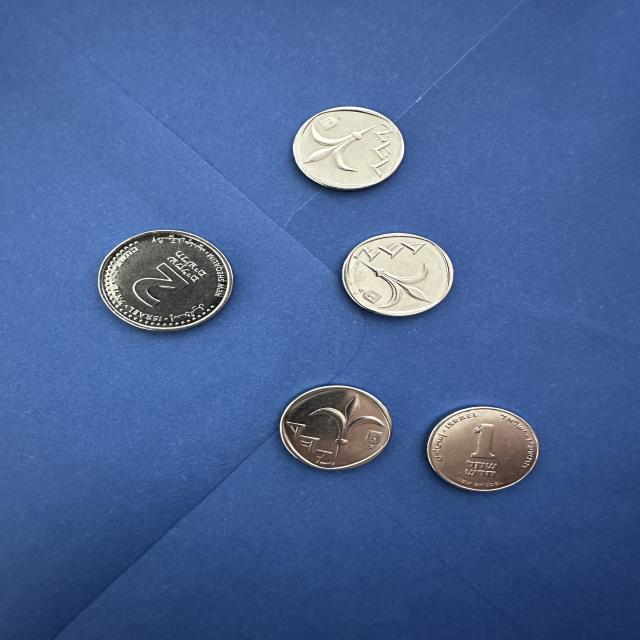1-shekel: (278, 382, 398, 473), (294, 104, 407, 197), (421, 402, 540, 490), (338, 230, 451, 317)
2-shekel: (93, 229, 234, 331)
